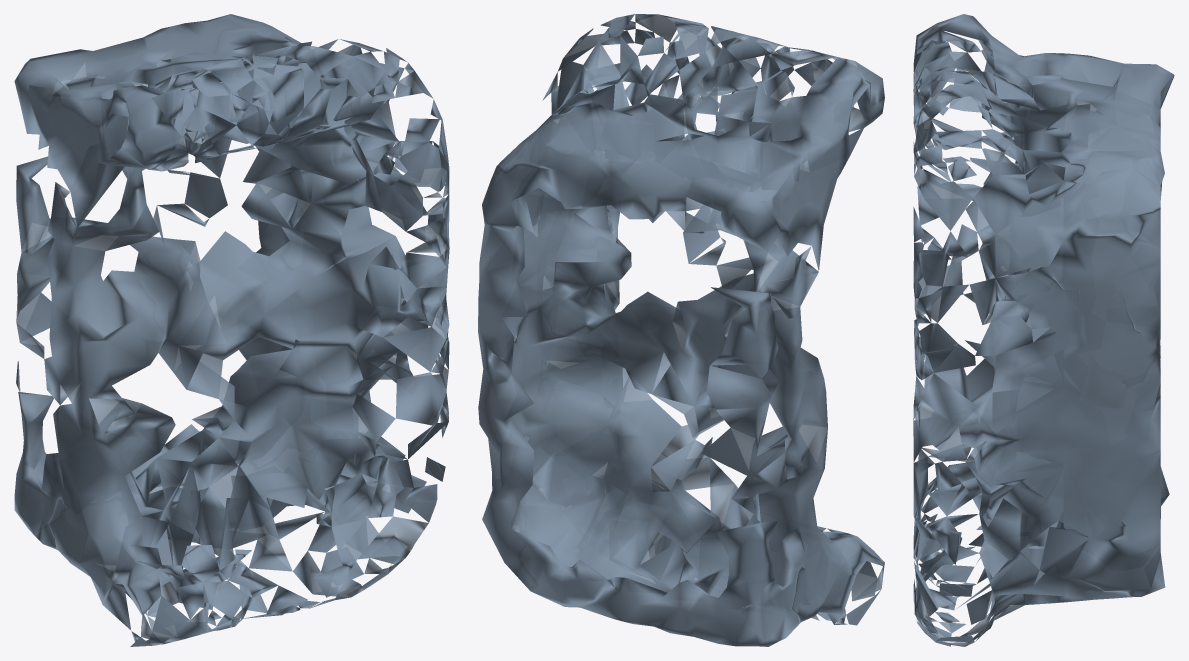
File: sofa_0663_original.obj
The picture shows the model from 3 angles, left to right: view 1: azimuth 30°, elevation 25°; view 2: azimuth 150°, elevation 25°; view 3: azimuth 270°, elevation 25°; orthographic projection. The views are drawn at different scales.
Bounding box in the file's own units: 1.01 × 1.67 × 0.7427.
